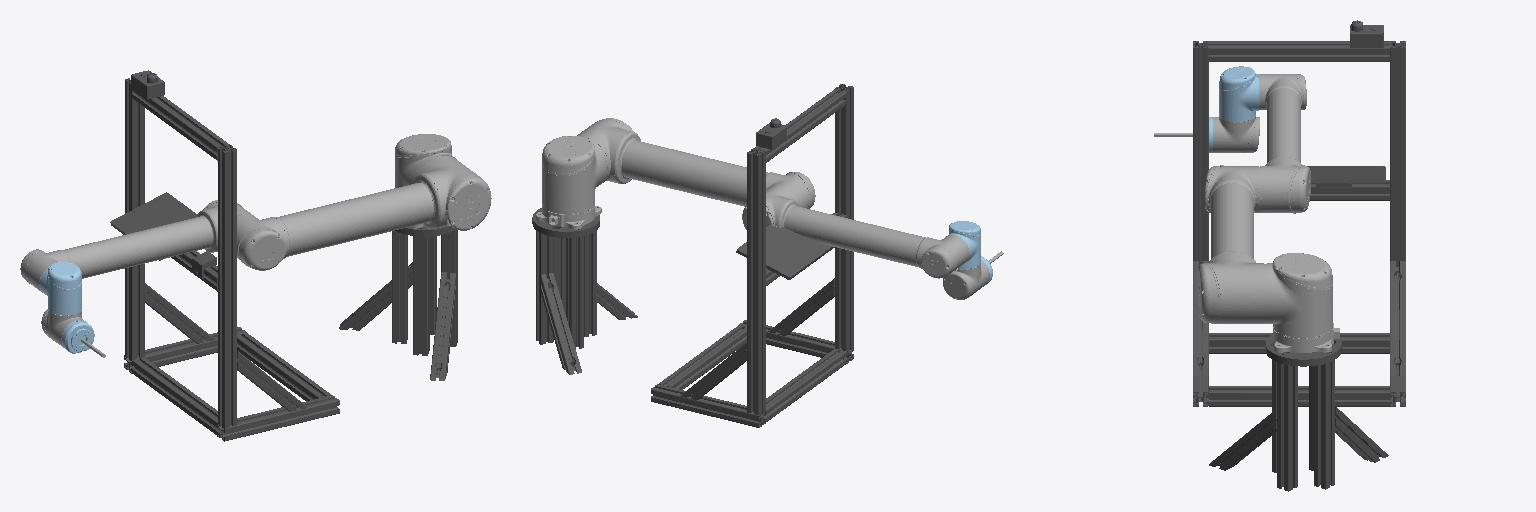
robot.urdf — thing:
<?xml version="1.0" ?>
<!-- =================================================================================== -->
<!-- |    This document was autogenerated by xacro from ridgeback.urdf.xacro           | -->
<!-- |    EDITING THIS FILE BY HAND IS NOT RECOMMENDED                                 | -->
<!-- =================================================================================== -->
<robot name="thing" xmlns:xacro="http://ros.org/wiki/xacro">
  <material name="dark_grey">
    <color rgba="0.2 0.2 0.2 1.0"/>
  </material>
  <material name="light_grey">
    <color rgba="0.4 0.4 0.4 1.0"/>
  </material>
  <material name="red">
    <color rgba="0.8 0.0 0.0 1.0"/>
  </material>
  <material name="white">
    <color rgba="0.9 0.9 0.9 1.0"/>
  </material>
  <material name="yellow">
    <color rgba="0.8 0.8 0.0 1.0"/>
  </material>
  <material name="black">
    <color rgba="0.15 0.15 0.15 1.0"/>
  </material>

  <!-- Ridgeback wheels -->
  <link name="front_rocker_link">
    <visual>
      <origin rpy="1.57079632679 0 1.57079632679" xyz="0 0 0"/>
      <geometry>
        <mesh filename="assets/ridgeback_description/meshes/rocker.stl"/>
      </geometry>
      <material name="black"/>
    </visual>
    <inertial>
      <origin rpy="1.57079632679 0 1.57079632679" xyz="0 0 0"/>
      <mass value="10.267"/>
      <inertia ixx="0.0288" ixy="2.20484e-6" ixz="-1.3145e-5" iyy="0.4324" iyz="1.8944e-3" izz="0.4130"/>
    </inertial>
  </link>
  <joint name="front_rocker" type="fixed">
    <parent link="axle_link"/>
    <child link="front_rocker_link"/>
    <origin rpy="0 0 0" xyz="0.319 0 0"/>
    <axis xyz="1 0 0"/>
    <limit effort="0" lower="-0.08726" upper="0.08726" velocity="0"/>
  </joint>
  <link name="front_left_wheel_link">
    <contact>
      <lateral_friction value="1.0"/>
      <rolling_friction value="0.0"/>
      <stiffness value="30000"/>
      <damping value="10000"/>
    </contact>
    <inertial>
      <origin rpy="0 0 0" xyz="0 0 0"/>
      <mass value="2.637"/>
      <!--<inertia ixx="3.3212e-3" ixy="0" ixz="0" iyy="6.6424e-3" iyz="0" izz="3.3212e-3"/>-->
      <inertia ixx="0.02467" ixy="0" ixz="0" iyy="0.02467" iyz="0" izz="0.04411"/>
    </inertial>
    <visual>
      <origin rpy="1.57079632679 0 0" xyz="0 0 0"/>
      <geometry>
        <mesh filename="assets/ridgeback_description/meshes/wheel.stl"/>
      </geometry>
      <material name="black"/>
    </visual>
    <collision>
      <origin rpy="1.57079632679 0 0" xyz="0 0 0"/>
      <geometry>
        <cylinder length="0.079" radius="0.0759"/>
      </geometry>
    </collision>
  </link>
  <joint name="front_left_wheel" type="continuous">
    <parent link="front_rocker_link"/>
    <child link="front_left_wheel_link"/>
    <origin rpy="0 0 0" xyz="0 0.2755 0"/>
    <axis xyz="0 1 0"/>
  </joint>
  <transmission name="front_wheel_trans">
    <type>transmission_interface/SimpleTransmission</type>
    <joint name="front_left_wheel">
      <hardwareInterface>hardware_interface/VelocityJointInterface</hardwareInterface>
    </joint>
    <actuator name="front_left_actuator">
      <mechanicalReduction>1</mechanicalReduction>
    </actuator>
  </transmission>
  <link name="front_right_wheel_link">
    <contact>
      <lateral_friction value="1.0"/>
      <rolling_friction value="0.0"/>
      <stiffness value="30000"/>
      <damping value="10000"/>
    </contact>
    <inertial>
      <origin rpy="0 0 0" xyz="0 0 0"/>
      <mass value="2.637"/>
      <!--<inertia ixx="3.3212e-3" ixy="0" ixz="0" iyy="6.6424e-3" iyz="0" izz="3.3212e-3"/>-->
      <inertia ixx="0.02467" ixy="0" ixz="0" iyy="0.02467" iyz="0" izz="0.04411"/>
    </inertial>
    <visual>
      <origin rpy="1.57079632679 0 0" xyz="0 0 0"/>
      <geometry>
        <mesh filename="assets/ridgeback_description/meshes/wheel.stl"/>
      </geometry>
      <material name="black"/>
    </visual>
    <collision>
      <origin rpy="1.57079632679 0 0" xyz="0 0 0"/>
      <geometry>
        <cylinder length="0.079" radius="0.0759"/>
      </geometry>
    </collision>
  </link>
  <joint name="front_right_wheel" type="continuous">
    <parent link="front_rocker_link"/>
    <child link="front_right_wheel_link"/>
    <origin rpy="0 0 0" xyz="0 -0.2755 0"/>
    <axis xyz="0 1 0"/>
  </joint>
  <transmission name="front_wheel_trans">
    <type>transmission_interface/SimpleTransmission</type>
    <joint name="front_right_wheel">
      <hardwareInterface>hardware_interface/VelocityJointInterface</hardwareInterface>
    </joint>
    <actuator name="front_right_actuator">
      <mechanicalReduction>1</mechanicalReduction>
    </actuator>
  </transmission>
  <link name="rear_rocker_link">
    <visual>
      <origin rpy="1.57079632679 0 1.57079632679" xyz="0 0 0"/>
      <geometry>
        <mesh filename="assets/ridgeback_description/meshes/rocker.stl"/>
      </geometry>
      <material name="black"/>
    </visual>
    <inertial>
      <origin rpy="1.57079632679 0 1.57079632679" xyz="0 0 0"/>
      <mass value="10.267"/>
      <inertia ixx="0.0288" ixy="2.20484e-6" ixz="-1.3145e-5" iyy="0.4324" iyz="1.8944e-3" izz="0.4130"/>
    </inertial>
  </link>
  <joint name="rear_rocker" type="fixed">
    <parent link="axle_link"/>
    <child link="rear_rocker_link"/>
    <origin rpy="0 0 0" xyz="-0.319 0 0"/>
    <axis xyz="1 0 0"/>
    <limit effort="0" velocity="0"/>
  </joint>
  <link name="rear_left_wheel_link">
    <contact>
      <lateral_friction value="1.0"/>
      <rolling_friction value="0.0"/>
      <stiffness value="30000"/>
      <damping value="10000"/>
    </contact>
    <inertial>
      <origin rpy="0 0 0" xyz="0 0 0"/>
      <mass value="2.637"/>
      <!--<inertia ixx="3.3212e-3" ixy="0" ixz="0" iyy="6.6424e-3" iyz="0" izz="3.3212e-3"/>-->
      <inertia ixx="0.02467" ixy="0" ixz="0" iyy="0.02467" iyz="0" izz="0.04411"/>
    </inertial>
    <visual>
      <origin rpy="1.57079632679 0 0" xyz="0 0 0"/>
      <geometry>
        <mesh filename="assets/ridgeback_description/meshes/wheel.stl"/>
      </geometry>
      <material name="black"/>
    </visual>
    <collision>
      <origin rpy="1.57079632679 0 0" xyz="0 0 0"/>
      <geometry>
        <cylinder length="0.079" radius="0.0759"/>
      </geometry>
    </collision>
  </link>
  <joint name="rear_left_wheel" type="continuous">
    <parent link="rear_rocker_link"/>
    <child link="rear_left_wheel_link"/>
    <origin rpy="0 0 0" xyz="0 0.2755 0"/>
    <axis xyz="0 1 0"/>
  </joint>
  <transmission name="rear_wheel_trans">
    <type>transmission_interface/SimpleTransmission</type>
    <joint name="rear_left_wheel">
      <hardwareInterface>hardware_interface/VelocityJointInterface</hardwareInterface>
    </joint>
    <actuator name="rear_left_actuator">
      <mechanicalReduction>1</mechanicalReduction>
    </actuator>
  </transmission>
  <link name="rear_right_wheel_link">
    <contact>
      <lateral_friction value="1.0"/>
      <rolling_friction value="0.0"/>
      <stiffness value="30000"/>
      <damping value="10000"/>
    </contact>
    <inertial>
      <origin rpy="0 0 0" xyz="0 0 0"/>
      <mass value="2.637"/>
      <!--<inertia ixx="3.3212e-3" ixy="0" ixz="0" iyy="6.6424e-3" iyz="0" izz="3.3212e-3"/>-->
      <inertia ixx="0.02467" ixy="0" ixz="0" iyy="0.02467" iyz="0" izz="0.04411"/>
    </inertial>
    <visual>
      <origin rpy="1.57079632679 0 0" xyz="0 0 0"/>
      <geometry>
        <mesh filename="assets/ridgeback_description/meshes/wheel.stl"/>
      </geometry>
      <material name="black"/>
    </visual>
    <collision>
      <origin rpy="1.57079632679 0 0" xyz="0 0 0"/>
      <geometry>
        <cylinder length="0.079" radius="0.0759"/>
      </geometry>
    </collision>
  </link>
  <joint name="rear_right_wheel" type="continuous">
    <parent link="rear_rocker_link"/>
    <child link="rear_right_wheel_link"/>
    <origin rpy="0 0 0" xyz="0 -0.2755 0"/>
    <axis xyz="0 1 0"/>
  </joint>
  <transmission name="rear_wheel_trans">
    <type>transmission_interface/SimpleTransmission</type>
    <joint name="rear_right_wheel">
      <hardwareInterface>hardware_interface/VelocityJointInterface</hardwareInterface>
    </joint>
    <actuator name="rear_right_actuator">
      <mechanicalReduction>1</mechanicalReduction>
    </actuator>
  </transmission>
  <link name="base_link"/>
  <joint name="base_link_joint" type="fixed">
    <origin rpy="0 0 0" xyz="0 0 0"/>
    <parent link="base_link"/>
    <child link="chassis_link"/>
  </joint>
  <link name="chassis_link">
    <visual>
      <origin rpy="0 0 0" xyz="0 0 0"/>
      <geometry>
        <mesh filename="assets/ridgeback_description/meshes/body.stl"/>
      </geometry>
      <material name="black"/>
    </visual>
    <collision>
      <origin xyz="0 0 0"/>
      <geometry>
        <mesh filename="assets/ridgeback_description/meshes/body-collision.stl"/>
      </geometry>
    </collision>
    <inertial>
      <origin rpy="1.57079632679 0 1.57079632679" xyz="0.012 0.002 0.067"/>
      <mass value="300.304"/>
      <inertia ixx="4.4744" ixy="0.03098" ixz="0.003647" iyy="7.1624" iyz="0.1228" izz="4.6155"/>
    </inertial>
  </link>
  <joint name="right_side_cover_link_joint" type="fixed">
    <origin rpy="0 0 0" xyz="0 0 0"/>
    <parent link="chassis_link"/>
    <child link="right_side_cover_link"/>
  </joint>
  <joint name="left_side_cover_link_joint" type="fixed">
    <origin rpy="0 0 0" xyz="0 0 0"/>
    <parent link="chassis_link"/>
    <child link="left_side_cover_link"/>
  </joint>
  <link name="left_side_cover_link">
    <visual>
      <origin rpy="0 0 3.14159265359" xyz="0 0 0"/>
      <geometry>
        <mesh filename="assets/ridgeback_description/meshes/side-cover.stl"/>
      </geometry>
      <material name="yellow"/>
    </visual>
  </link>
  <link name="right_side_cover_link">
    <visual>
      <origin rpy="0 0 0" xyz="0 0 0"/>
      <geometry>
        <mesh filename="assets/ridgeback_description/meshes/side-cover.stl"/>
      </geometry>
      <material name="yellow"/>
    </visual>
  </link>
  <joint name="front_cover_link_joint" type="fixed">
    <origin rpy="0 0 0" xyz="0 0 0"/>
    <parent link="chassis_link"/>
    <child link="front_cover_link"/>
  </joint>
  <link name="front_cover_link">
    <visual>
      <origin rpy="0 0 0" xyz="0 0 0"/>
      <geometry>
        <mesh filename="assets/ridgeback_description/meshes/end-cover.stl"/>
      </geometry>
      <material name="black"/>
    </visual>
  </link>
  <joint name="rear_cover_link_joint" type="fixed">
    <origin rpy="0 0 0" xyz="0 0 0"/>
    <parent link="chassis_link"/>
    <child link="rear_cover_link"/>
  </joint>
  <link name="rear_cover_link">
    <visual>
      <origin rpy="0 0 3.14159265359" xyz="0 0 0"/>
      <geometry>
        <mesh filename="assets/ridgeback_description/meshes/end-cover.stl"/>
      </geometry>
      <material name="black"/>
    </visual>
  </link>
  <joint name="front_lights_link_joint" type="fixed">
    <origin rpy="0 0 0" xyz="0 0 0"/>
    <parent link="chassis_link"/>
    <child link="front_lights_link"/>
  </joint>
  <joint name="rear_lights_link_joint" type="fixed">
    <origin rpy="0 0 0" xyz="0 0 0"/>
    <parent link="chassis_link"/>
    <child link="rear_lights_link"/>
  </joint>
  <link name="front_lights_link">
    <visual>
      <origin rpy="0 0 0" xyz="0 0 0"/>
      <geometry>
        <mesh filename="assets/ridgeback_description/meshes/lights.stl"/>
      </geometry>
      <material name="white"/>
    </visual>
  </link>
  <link name="rear_lights_link">
    <visual>
      <origin rpy="0 0 3.14159265359" xyz="0 0 0"/>
      <geometry>
        <mesh filename="assets/ridgeback_description/meshes/lights.stl"/>
      </geometry>
      <material name="red"/>
    </visual>
  </link>
  <joint name="top_link_joint" type="fixed">
    <origin rpy="0 0 0" xyz="0 0 0"/>
    <parent link="chassis_link"/>
    <child link="top_link"/>
  </joint>
  <link name="top_link">
    <visual>
      <origin rpy="0 0 0" xyz="0 0 0"/>
      <geometry>
        <mesh filename="assets/ridgeback_description/meshes/top.stl"/>
      </geometry>
      <material name="black"/>
    </visual>
    <collision>
      <origin rpy="0 0 0" xyz="0 0 0"/>
      <geometry>
        <mesh filename="assets/ridgeback_description/meshes/top.stl"/>
      </geometry>
    </collision>
  </link>
  <joint name="axle_joint" type="fixed">
    <origin rpy="0 0 0" xyz="0 0 0.05"/>
    <parent link="chassis_link"/>
    <child link="axle_link"/>
  </joint>
  <link name="axle_link">
    <visual>
      <origin rpy="0 1.57079632679 0" xyz="0 0 0"/>
      <geometry>
        <mesh filename="assets/ridgeback_description/meshes/axle.stl"/>
      </geometry>
      <material name="black"/>
    </visual>
  </link>
  <link name="imu_link">
    <inertial>
      <mass value="0.001"/>
      <origin rpy="0 0 0" xyz="0 0 0"/>
      <inertia ixx="1e-09" ixy="0.0" ixz="0.0" iyy="1e-09" iyz="0.0" izz="1e-09"/>
    </inertial>
  </link>
  <joint name="imu_joint" type="fixed">
    <parent link="chassis_link"/>
    <child link="imu_link"/>
    <origin rpy="0 0 0" xyz="0.2085 -0.2902 0.1681"/>
  </joint>
  <link name="mid_mount"/>
  <joint name="mid_mount_joint" type="fixed">
    <parent link="base_link"/>
    <child link="mid_mount"/>
    <origin rpy="0 0 0" xyz="0 0 0.28"/>
  </joint>

  <link name="arch_link">
  <visual>
    <origin rpy="1.570795 0 0" xyz="0.0 0.0 0.0"/>
    <geometry>
      <mesh filename="assets/ridgeback_description/meshes/tor11_mech.stl" />
    </geometry>
    <material name="light_grey"/>
  </visual>
  <collision>
    <origin rpy="1.570795 0 0" xyz="0.0 0.0 0.0"/>
    <geometry>
      <mesh filename="assets/ridgeback_description/meshes/tor11_mech.stl" />
    </geometry>
  </collision>
 </link>

<joint name="arch_joint" type="fixed">
  <origin xyz="0 0 0.278" rpy="0 0 1.57" />
  <parent link="top_link" />
  <child link="arch_link" />
</joint>

<!-- Join arm and arch link -->
<joint name="ur10_arm_base" type="fixed">
  <parent link="arch_link" />
  <child link="ur10_base_link" />
  <origin xyz="0.01 -0.27 0.375" rpy="0.0 0.0 1.570796" />
</joint>

<!-- common stuff -->
<material name="blackish">
  <color rgba="0.2 0.2 0.2 1"/>
</material>
<material name="LightGrey">
  <color rgba="0.7 0.7 0.7 1.0"/>
</material>
<material name="LightBlue">
  <color rgba="0.670 0.815 0.921 1.0"/>
</material>

<link name="ur10_base_link">
  <visual>
    <origin xyz="0 0 0" rpy="1.57 0 0"/>
    <geometry>
      <mesh filename="assets/ur_description/meshes/ur10/visual/Base.obj"/>
    </geometry>
    <material name="LightGrey"/>
  </visual>
  <collision>
    <geometry>
      <mesh filename="assets/ur_description/meshes/ur10/collision/base.stl"/>
    </geometry>
  </collision>
  <inertial>
    <mass value="8.0"/>
    <origin rpy="0 0 0" xyz="0.0 0.0 0.0"/>
    <inertia ixx="0.0061063308908" ixy="0.0" ixz="0.0" iyy="0.0061063308908" iyz="0.0" izz="0.01125"/>
  </inertial>
</link>
<joint name="shoulder_pan_joint" type="revolute">
  <parent link="ur10_base_link"/>
  <child link="shoulder_link"/>
  <origin rpy="0.0 0.0 0.0" xyz="0.0 0.0 0.1273"/>
  <axis xyz="0 0 1"/>
  <limit effort="330.0" lower="-6.2831853" upper="6.2831853" velocity="2.16"/>
  <dynamics damping="0.0" friction="0.0"/>
</joint>
<link name="shoulder_link">
  <visual>
    <origin xyz="0 0 0" rpy="1.57 0 0"/>
    <geometry>
      <mesh filename="assets/ur_description/meshes/ur10/visual/Shoulder.obj"/>
    </geometry>
    <material name="LightGrey"/>
  </visual>
  <collision>
    <geometry>
      <mesh filename="assets/ur_description/meshes/ur10/collision/shoulder.stl"/>
    </geometry>
  </collision>
  <inertial>
    <mass value="14.778"/>
    <origin rpy="0 0 0" xyz="0.0 0.0 0.0"/>
    <inertia ixx="0.0314743125769" ixy="0.0" ixz="0.0" iyy="0.0314743125769" iyz="0.0" izz="0.021875625"/>
  </inertial>
</link>
<joint name="shoulder_lift_joint" type="revolute">
  <parent link="shoulder_link"/>
  <child link="upper_arm_link"/>
  <origin rpy="0.0 1.570796325 0.0" xyz="0.0 0.220941 0.0"/>
  <axis xyz="0 1 0"/>
  <limit effort="330.0" lower="-6.2831853" upper="6.2831853" velocity="2.16"/>
  <dynamics damping="0.0" friction="0.0"/>
</joint>
<link name="upper_arm_link">
  <visual>
    <origin xyz="0 0 0" rpy="1.57 0 0"/>
    <geometry>
      <mesh filename="assets/ur_description/meshes/ur10/visual/UpperArm.obj"/>
    </geometry>
    <material name="LightGrey"/>
  </visual>
  <collision>
    <geometry>
      <mesh filename="assets/ur_description/meshes/ur10/collision/upper_arm.stl"/>
    </geometry>
  </collision>
  <inertial>
    <mass value="24.93"/>
    <origin rpy="0 0 0" xyz="0.0 0.0 0.306"/>
    <inertia ixx="0.421753803798" ixy="0.0" ixz="0.0" iyy="0.421753803798" iyz="0.0" izz="0.036365625"/>
  </inertial>
</link>
<joint name="elbow_joint" type="revolute">
  <parent link="upper_arm_link"/>
  <child link="forearm_link"/>
  <origin rpy="0.0 0.0 0.0" xyz="0.0 -0.1719 0.612"/>
  <axis xyz="0 1 0"/>
  <limit effort="150.0" lower="-6.2831853" upper="6.2831853" velocity="3.15"/>
  <dynamics damping="0.0" friction="0.0"/>
</joint>
<link name="forearm_link">
  <visual>
    <origin xyz="0 0 0" rpy="1.57 0 0"/>
    <geometry>
      <mesh filename="assets/ur_description/meshes/ur10/visual/Forearm.obj"/>
    </geometry>
    <material name="LightGrey"/>
  </visual>
  <collision>
    <geometry>
      <mesh filename="assets/ur_description/meshes/ur10/collision/forearm.stl"/>
    </geometry>
  </collision>
  <inertial>
    <mass value="6.87"/>
    <origin rpy="0 0 0" xyz="0.0 0.0 0.28615"/>
    <inertia ixx="0.111069694097" ixy="0.0" ixz="0.0" iyy="0.111069694097" iyz="0.0" izz="0.010884375"/>
  </inertial>
</link>
<joint name="wrist_1_joint" type="revolute">
  <parent link="forearm_link"/>
  <child link="wrist_1_link"/>
  <origin rpy="0.0 1.570796325 0.0" xyz="0.0 0.0 0.5723"/>
  <axis xyz="0 1 0"/>
  <limit effort="54.0" lower="-6.2831853" upper="6.2831853" velocity="3.2"/>
  <dynamics damping="0.0" friction="0.0"/>
</joint>
<link name="wrist_1_link">
  <visual>
    <origin xyz="0 0 0" rpy="1.57 0 0"/>
    <geometry>
      <mesh filename="assets/ur_description/meshes/ur10/visual/Wrist1.obj"/>
    </geometry>
    <material name="LightBlue"/>
  </visual>
  <collision>
    <geometry>
      <mesh filename="assets/ur_description/meshes/ur10/collision/wrist_1.stl"/>
    </geometry>
  </collision>
  <inertial>
    <mass value="2.96"/>
    <origin rpy="0 0 0" xyz="0.0 0.0 0.0"/>
    <inertia ixx="0.0051082479567" ixy="0.0" ixz="0.0" iyy="0.0051082479567" iyz="0.0" izz="0.0055125"/>
  </inertial>
</link>
<joint name="wrist_2_joint" type="revolute">
  <parent link="wrist_1_link"/>
  <child link="wrist_2_link"/>
  <origin rpy="0.0 0.0 0.0" xyz="0.0 0.1149 0.0"/>
  <axis xyz="0 0 1"/>
  <limit effort="54.0" lower="-6.2831853" upper="6.2831853" velocity="3.2"/>
  <dynamics damping="0.0" friction="0.0"/>
</joint>
<link name="wrist_2_link">
  <visual>
    <origin xyz="0 0 0" rpy="1.57 0 0"/>
    <geometry>
      <mesh filename="assets/ur_description/meshes/ur10/visual/Wrist2.obj"/>
    </geometry>
    <material name="LightGrey"/>
  </visual>
  <collision>
    <geometry>
      <mesh filename="assets/ur_description/meshes/ur10/collision/wrist_2.stl"/>
    </geometry>
  </collision>
  <inertial>
    <mass value="2.96"/>
    <origin rpy="0 0 0" xyz="0.0 0.0 0.0"/>
    <inertia ixx="0.0051082479567" ixy="0.0" ixz="0.0" iyy="0.0051082479567" iyz="0.0" izz="0.0055125"/>
  </inertial>
</link>
<joint name="wrist_3_joint" type="revolute">
  <parent link="wrist_2_link"/>
  <child link="wrist_3_link"/>
  <origin rpy="0.0 0.0 0.0" xyz="0.0 0.0 0.1157"/>
  <axis xyz="0 1 0"/>
  <limit effort="54.0" lower="-6.2831853" upper="6.2831853" velocity="3.2"/>
  <dynamics damping="0.0" friction="0.0"/>
</joint>
<link name="wrist_3_link">
  <visual>
    <origin xyz="0 0 0" rpy="1.57 0 0"/>
    <geometry>
      <mesh filename="assets/ur_description/meshes/ur10/visual/Wrist3.obj"/>
    </geometry>
    <material name="LightBlue"/>
  </visual>
  <collision>
    <geometry>
      <mesh filename="assets/ur_description/meshes/ur10/collision/wrist_3.stl"/>
    </geometry>
  </collision>
  <inertial>
    <mass value="1.202"/>
    <origin rpy="0 0 0" xyz="0.0 0.0 0.0"/>
    <inertia ixx="0.000526462289415" ixy="0.0" ixz="0.0" iyy="0.000526462289415" iyz="0.0" izz="0.000568125"/>
  </inertial>
</link>
<joint name="ee_fixed_joint" type="fixed">
  <parent link="wrist_3_link"/>
  <child link="ee_link"/>
  <origin rpy="0.0 0.0 1.570796325" xyz="0.0 0.0922 0.0"/>
</joint>
<link name="ee_link">
  <visual>
    <origin xyz="0.0575 0 0" rpy="0 1.57 0"/>
    <geometry>
      <cylinder radius="0.005" length="0.115"/>
    </geometry>
    <material name="LightGrey"/>
  </visual>
  <collision>
    <origin xyz="0.0575 0 0" rpy="0 1.57 0"/>
    <geometry>
      <cylinder radius="0.005" length="0.115"/>
    </geometry>
  </collision>
  <inertial>
    <mass value="0.1"/>
    <origin rpy="0.055 0 0" xyz="0.0 0.0 0.0"/>
    <inertia ixx="0.000526462289415" ixy="0.0" ixz="0.0" iyy="0.000526462289415" iyz="0.0" izz="0.000568125"/>
    <!-- <inertia ixx="1" ixy="0.0" ixz="0.0" iyy="1" iyz="0.0" izz="1"/> -->
  </inertial>
</link>
</robot>

--- Render facts (derived) ---
3 views of the same robot in one strip: view 1: azimuth 30°, elevation 25°; view 2: azimuth 150°, elevation 25°; view 3: azimuth 270°, elevation 25° (orthographic).
Robot: thing — 27 links, 26 joints (6 revolute, 4 continuous, 16 fixed); root link base_link; default pose: all joints at 0.
Visible links, largest first — view 1: arch_link, upper_arm_link, forearm_link, shoulder_link, wrist_1_link, wrist_3_link, wrist_2_link; view 2: arch_link, upper_arm_link, forearm_link, shoulder_link, wrist_2_link, wrist_1_link, ur10_base_link; view 3: arch_link, upper_arm_link, forearm_link, shoulder_link, wrist_1_link, wrist_2_link, ur10_base_link.
Link boxes in pixels (x1,y1,x2,y2): arch_link: (110, 70, 457, 441); upper_arm_link: (237, 156, 491, 270); forearm_link: (20, 200, 253, 292); shoulder_link: (395, 134, 456, 187); wrist_1_link: (40, 262, 81, 315); wrist_3_link: (62, 320, 94, 353); wrist_2_link: (41, 309, 85, 347); arch_link: (532, 84, 853, 427); upper_arm_link: (577, 118, 815, 208); forearm_link: (742, 187, 968, 278); shoulder_link: (542, 136, 606, 214); wrist_2_link: (943, 260, 989, 299); wrist_1_link: (946, 221, 980, 269); ur10_base_link: (536, 206, 601, 229); arch_link: (1193, 20, 1405, 491); upper_arm_link: (1197, 165, 1267, 323); forearm_link: (1256, 74, 1310, 213); shoulder_link: (1268, 253, 1332, 338); wrist_1_link: (1219, 66, 1258, 122); wrist_2_link: (1213, 115, 1259, 152); ur10_base_link: (1273, 323, 1339, 352).
Size in the robot's own frame: 1.33 by 0.6258 by 0.9 metres.
8 mesh visuals loaded from 16 distinct referenced files (1 binary STL, 7 OBJ); not drawn: 15 (reference not matched to a file when rendering).